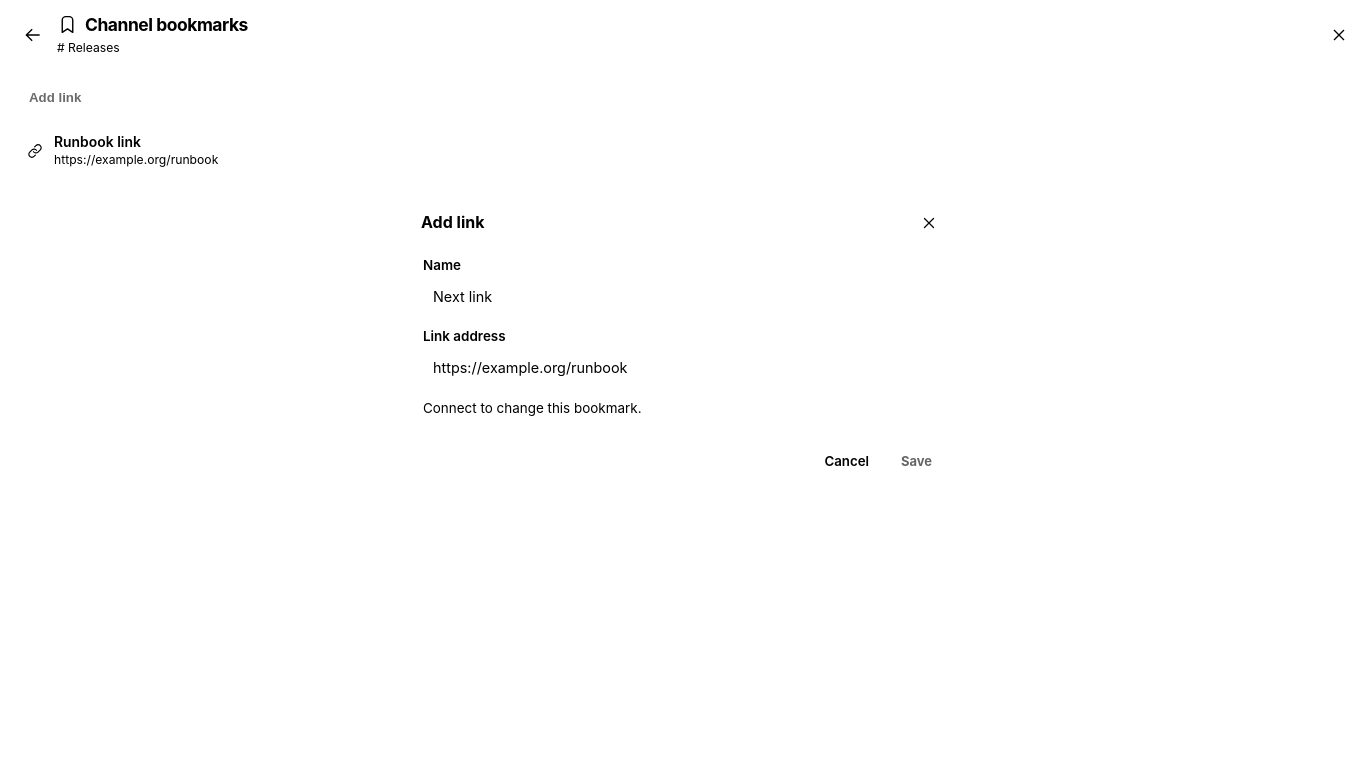
dismissing a submitted editor offline hides the list without applying its late confirmation
Earlier steps of the test are not shown.
Click the button named "Close".
click(929, 223)  # box [913,207,945,239]
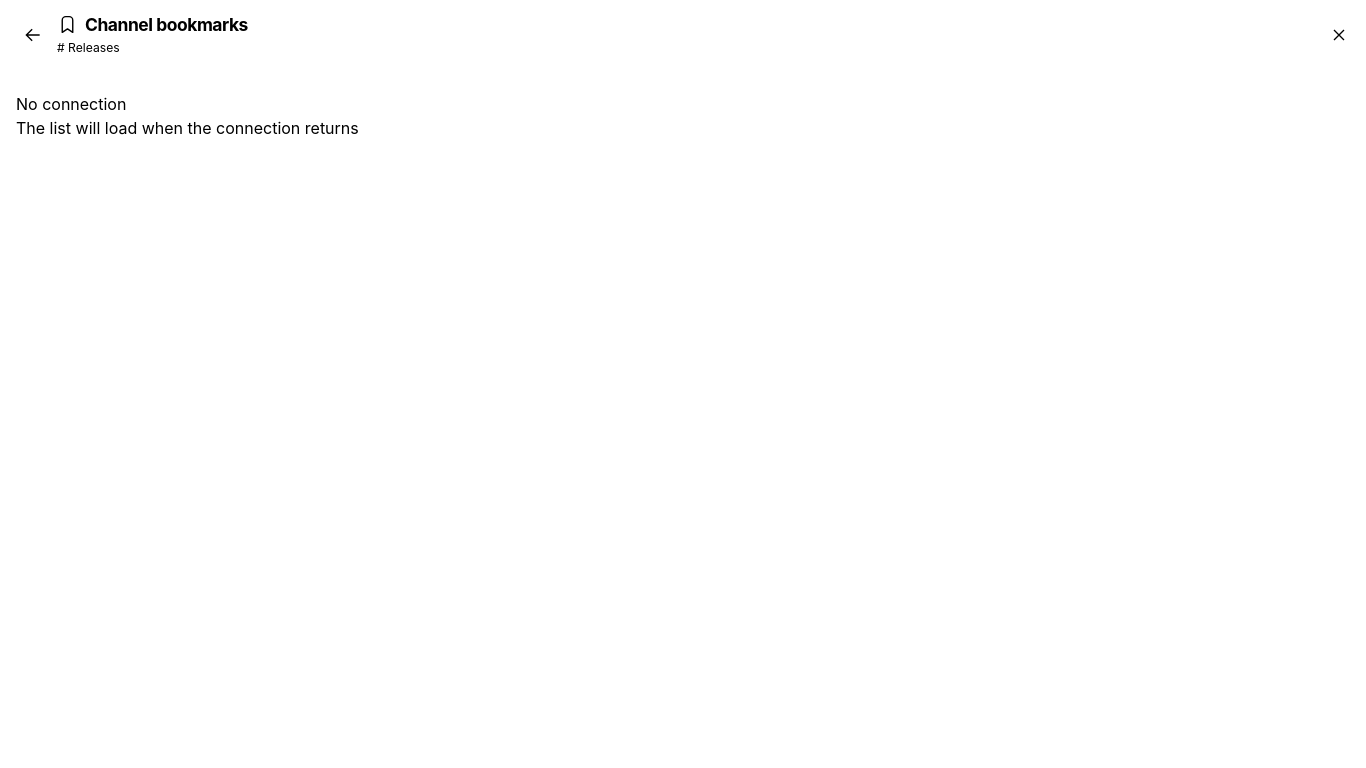
Expected: the button "Next link" is not shown
Expected: the heading "No connection" is shown, [16,94,126,114]
Expected: the button "Runbook link" is gone
